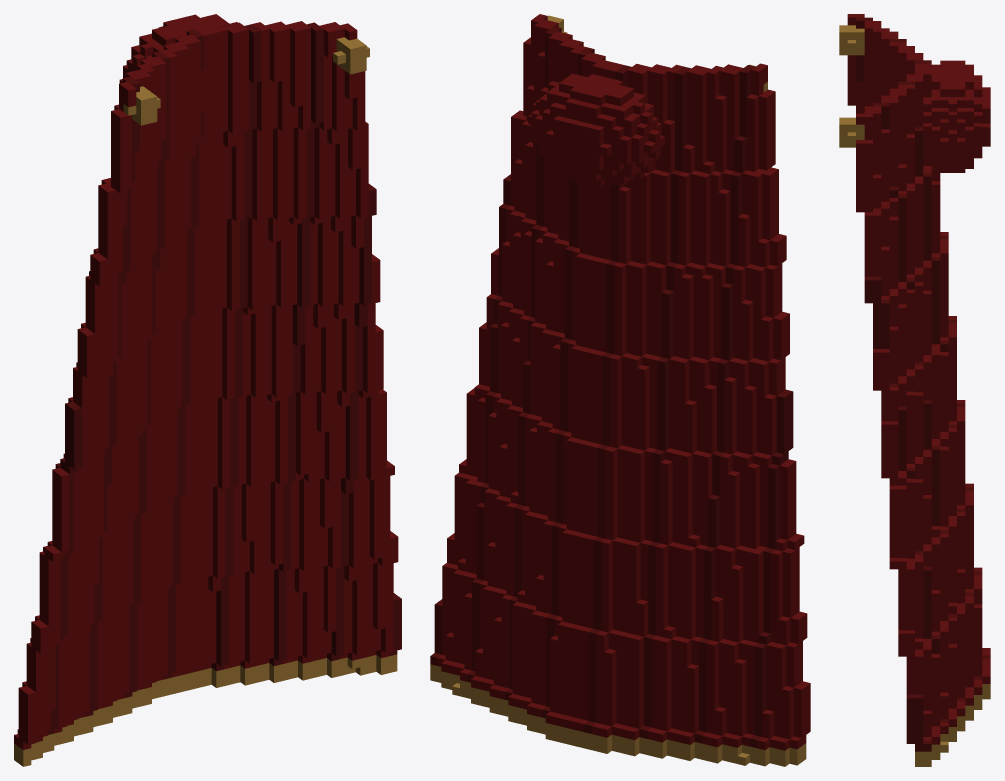
The model's file is leather_rare_cloak.glb.
3 views of the same model, side by side, from view 1: azimuth 30°, elevation 25°; view 2: azimuth 150°, elevation 25°; view 3: azimuth 270°, elevation 25° (orthographic). The views are drawn at different scales.
Parts seen in each view (by area): view 1: leather_rare_cloak; view 2: leather_rare_cloak; view 3: leather_rare_cloak.
Boxes of the visible parts, x1,y1,x2,y2 form: leather_rare_cloak: [14, 14, 401, 766]; leather_rare_cloak: [430, 14, 810, 766]; leather_rare_cloak: [839, 14, 990, 766].
Size of the model in its own units: 0.564 by 0.972 by 0.216.
